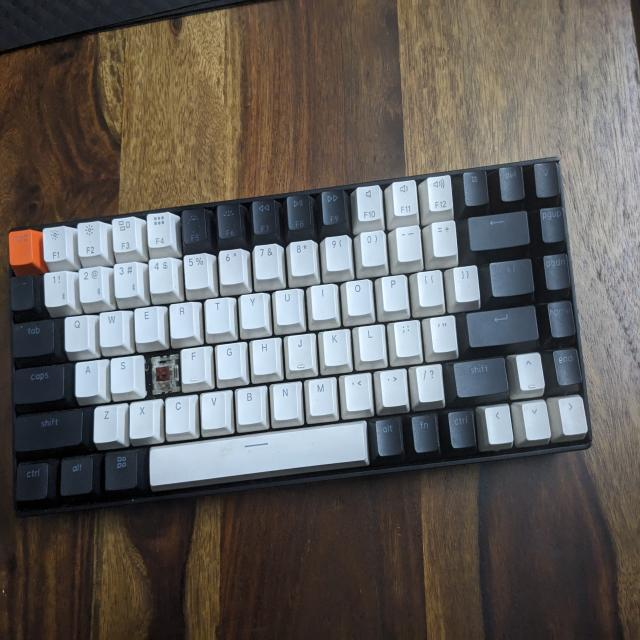C: (149, 349, 183, 398)
